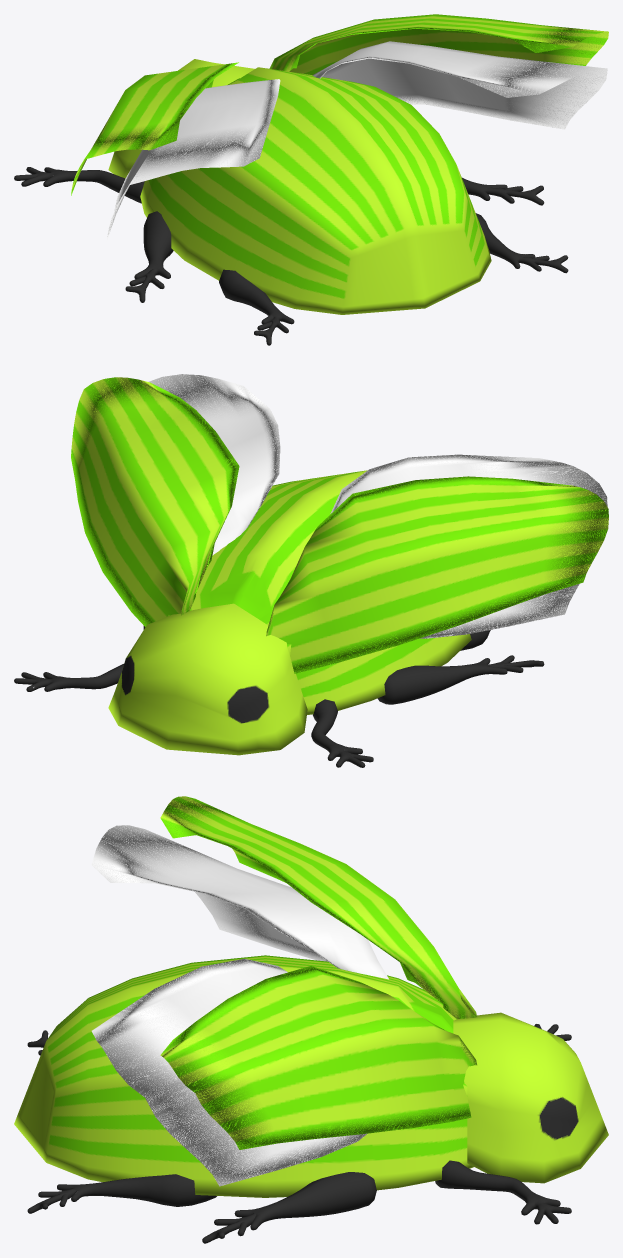
Rendered from Bug.glb.
3 renders of one model, top to bottom at view 1: azimuth 30°, elevation 25°; view 2: azimuth 150°, elevation 25°; view 3: azimuth 270°, elevation 25°, orthographic. The views are drawn at different scales.
Visible parts, largest first — view 1: Bug, wings.001; view 2: Bug, wings.001; view 3: Bug, wings.001.
Part boxes in pixels (left/top/right/bottom): Bug: left=14, top=14, right=608, bottom=345; wings.001: left=107, top=41, right=607, bottom=239; Bug: left=14, top=377, right=608, bottom=767; wings.001: left=148, top=374, right=607, bottom=638; Bug: left=14, top=796, right=608, bottom=1243; wings.001: left=91, top=825, right=388, bottom=1186.
Bounding box in the file's own units: 0.6339 × 0.2194 × 0.5373.
1 material, 1 textured.
